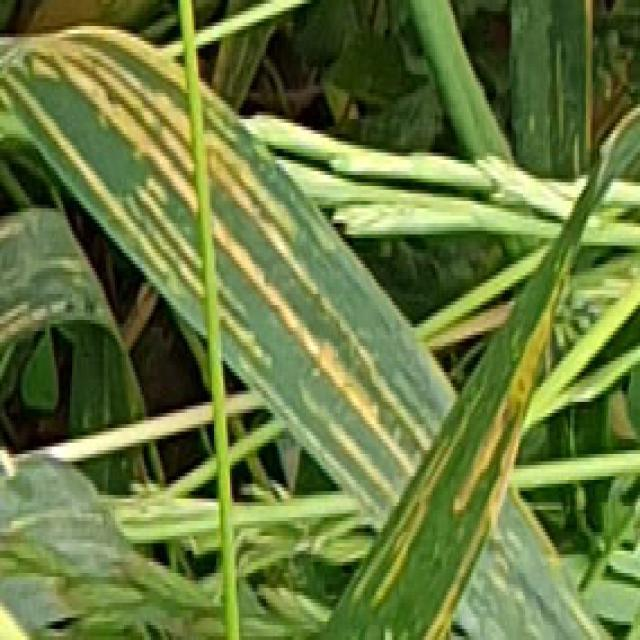Yellow Rust: (215, 97, 460, 527), (315, 248, 575, 638), (18, 33, 180, 192)
